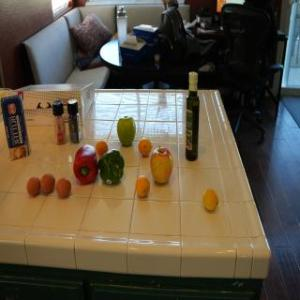bell_pepper: (70, 142, 102, 188), (98, 149, 126, 185)
egg: (55, 177, 73, 199), (40, 173, 56, 195), (25, 176, 41, 198)
